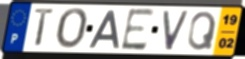A: (87, 9, 121, 50)
E: (119, 7, 157, 52)
O: (55, 7, 91, 51)
Q: (186, 10, 218, 52)
T: (33, 7, 57, 49)
V: (161, 10, 191, 52)
